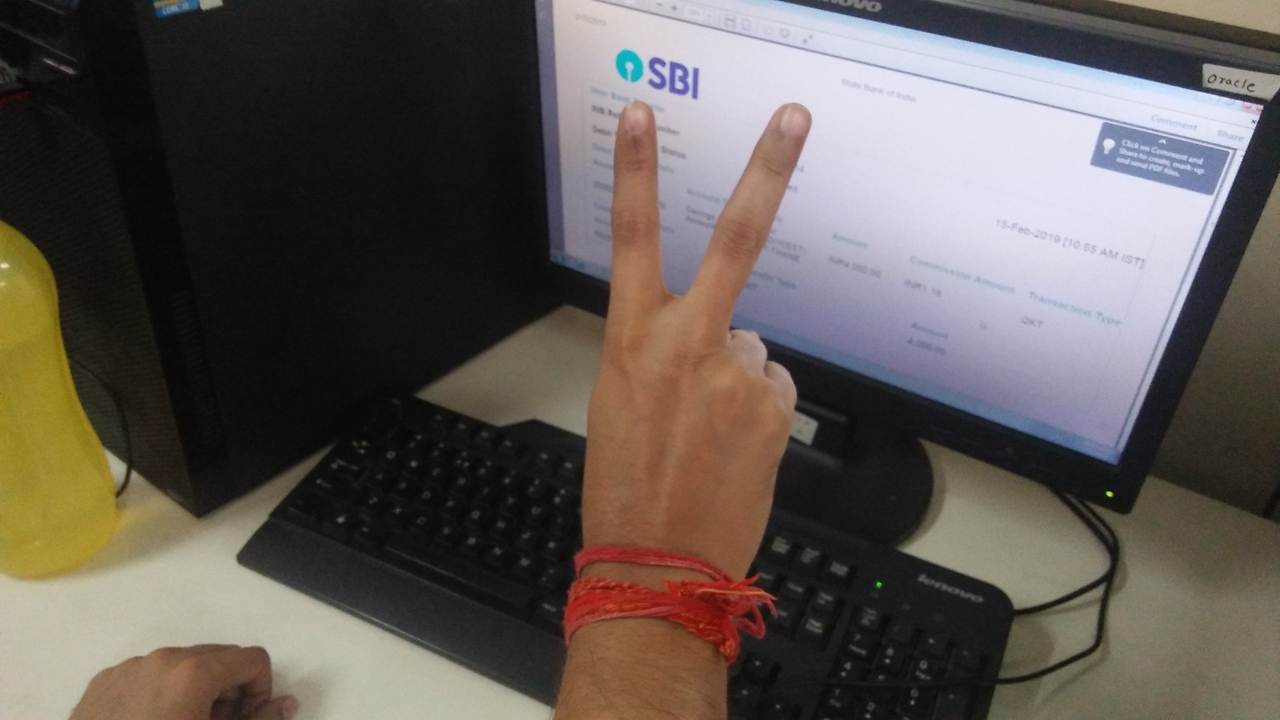fingertip: (758, 94, 822, 148), (608, 92, 666, 142)
